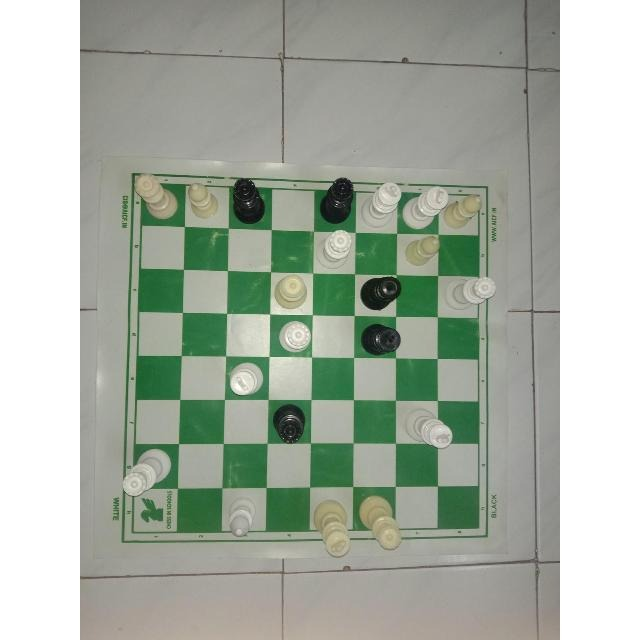black-king: (356, 320, 404, 358)
black-queen: (231, 175, 269, 227), (319, 173, 357, 225), (269, 402, 311, 444), (358, 274, 402, 311)
white-bishop: (226, 490, 262, 546), (185, 178, 221, 221), (446, 191, 486, 229), (404, 236, 442, 268)
white-king: (307, 497, 355, 561), (395, 402, 455, 452), (400, 177, 448, 231), (359, 176, 400, 233), (225, 356, 266, 400)
white-queen: (118, 445, 176, 501), (356, 493, 408, 555), (128, 169, 176, 220), (441, 271, 497, 312), (311, 228, 358, 270), (270, 317, 316, 357), (267, 274, 311, 314)
